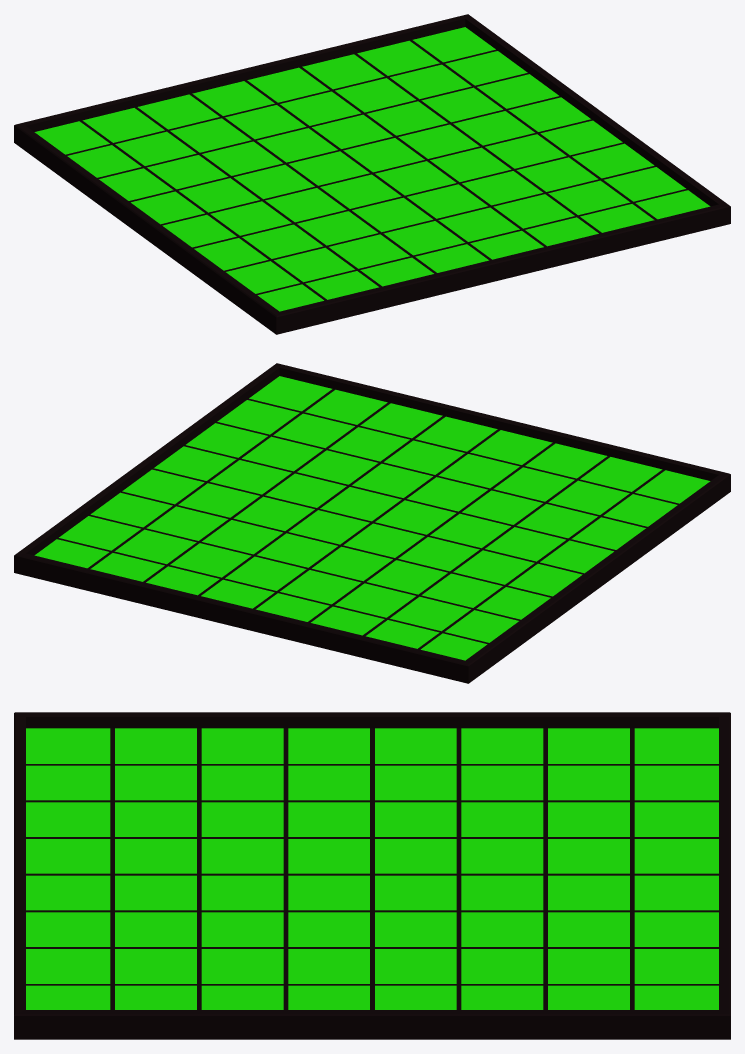
3 views of the same model, one above another, from view 1: azimuth 30°, elevation 25°; view 2: azimuth 150°, elevation 25°; view 3: azimuth 270°, elevation 25° (orthographic). The views are drawn at different scales.
Visible parts, largest first — view 1: Plane; view 2: Plane; view 3: Plane.
Boxes of the visible parts, bbox=[...] form: Plane: bbox=[14, 14, 730, 334]; Plane: bbox=[14, 363, 730, 683]; Plane: bbox=[14, 712, 730, 1039].
Size of the model in its own units: 837 by 32.23 by 837.
